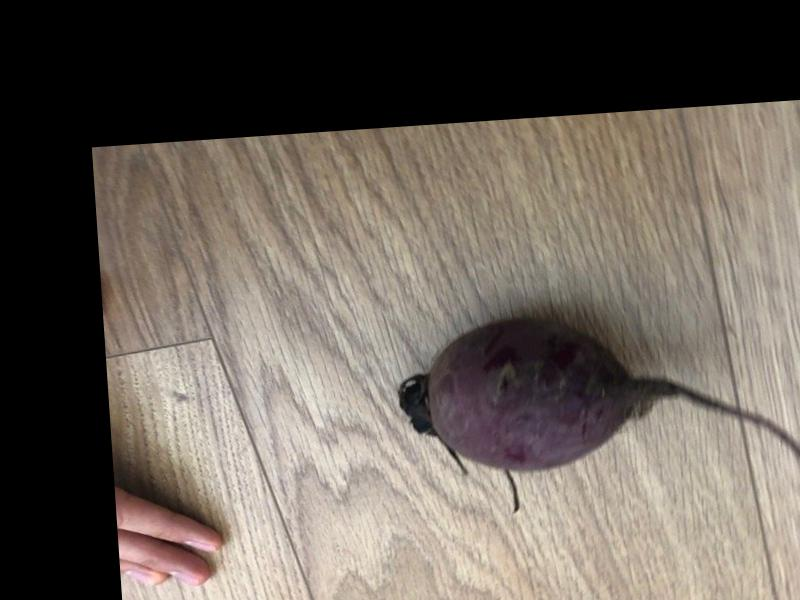Beet: (396, 303, 800, 518)
